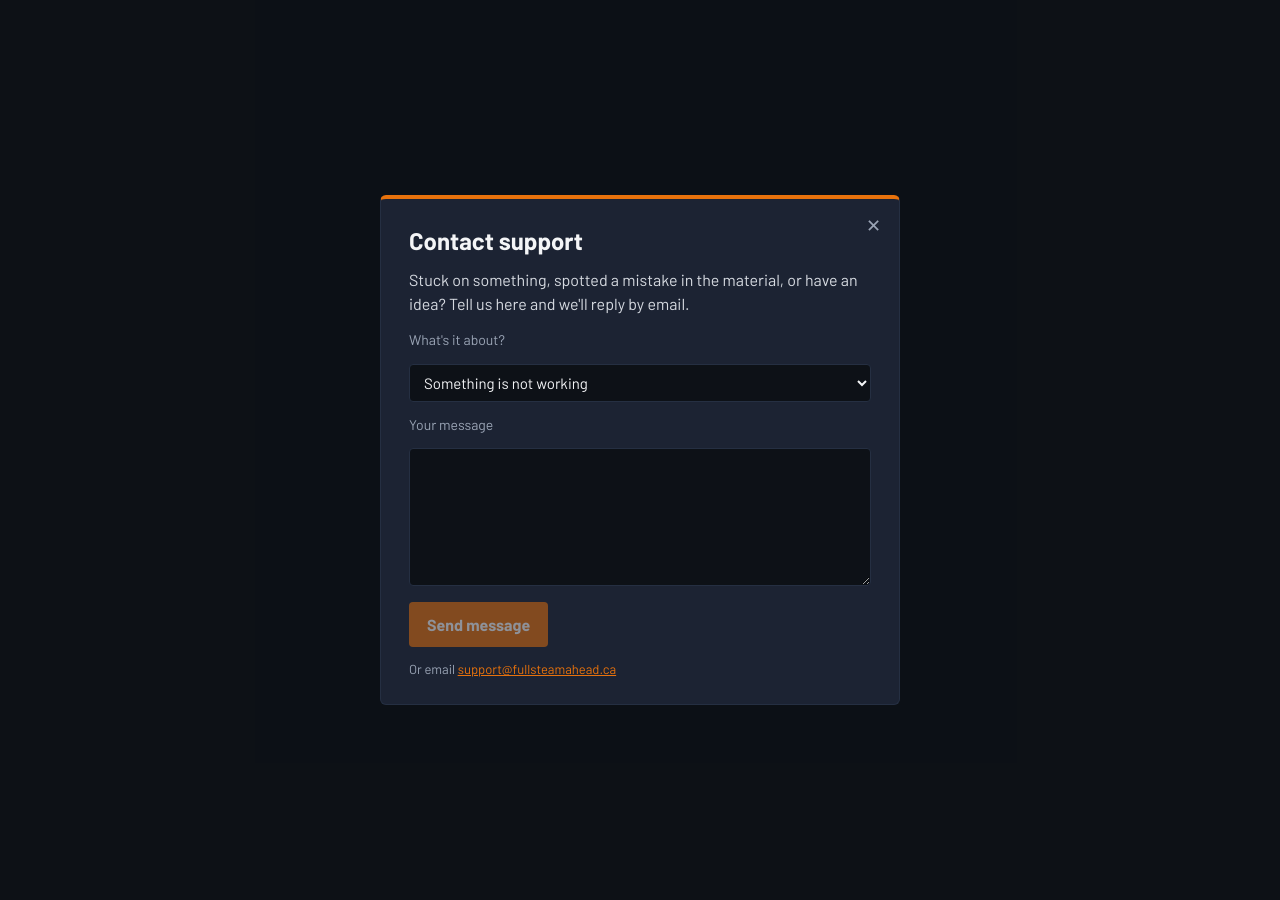
Test: ContactSupportModal › shows the server error and keeps the form
Type "hi" into the text box labelled "Your message" at (640, 517), box [409, 448, 871, 586]
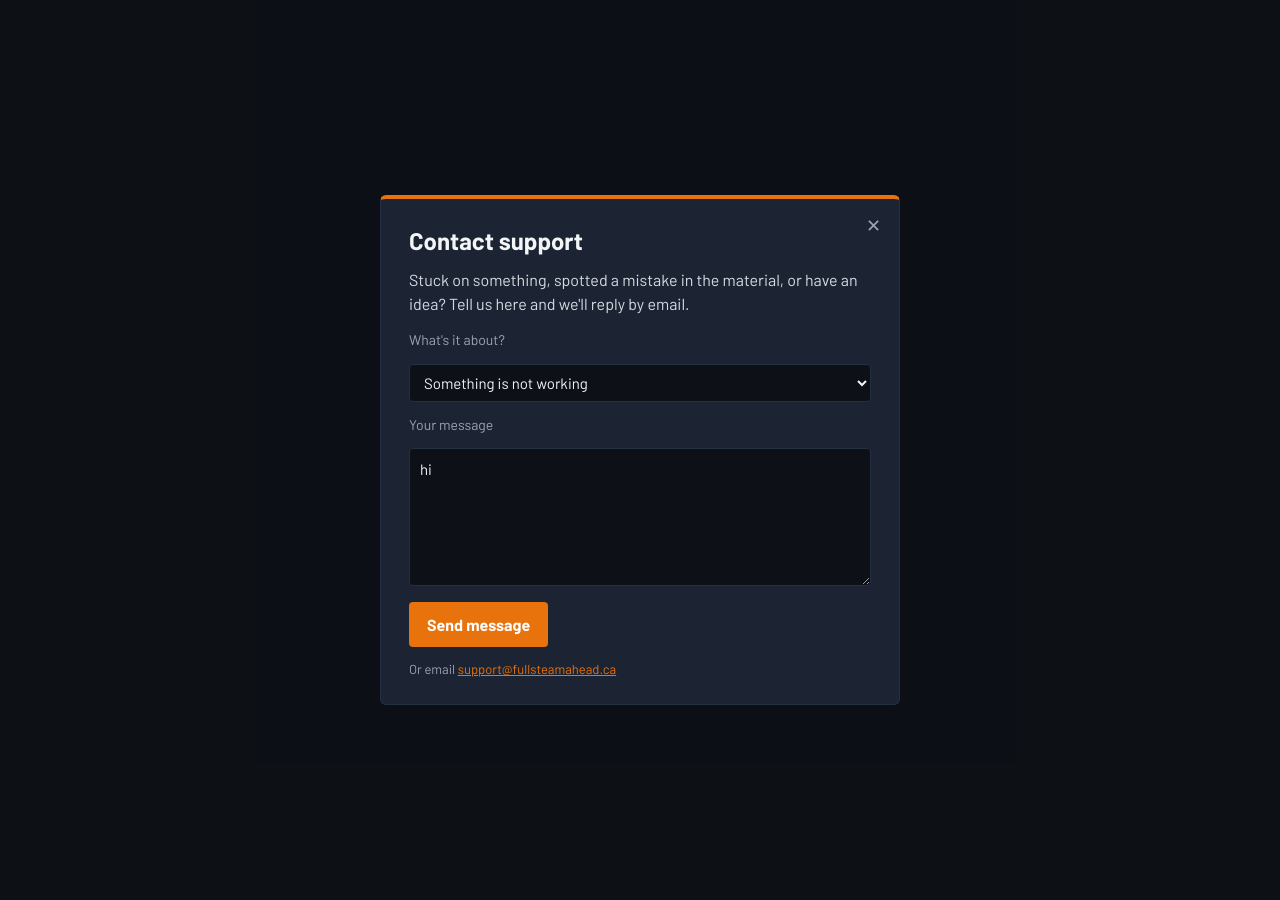
Click the button "Send message" at (479, 625), box [409, 602, 548, 648]
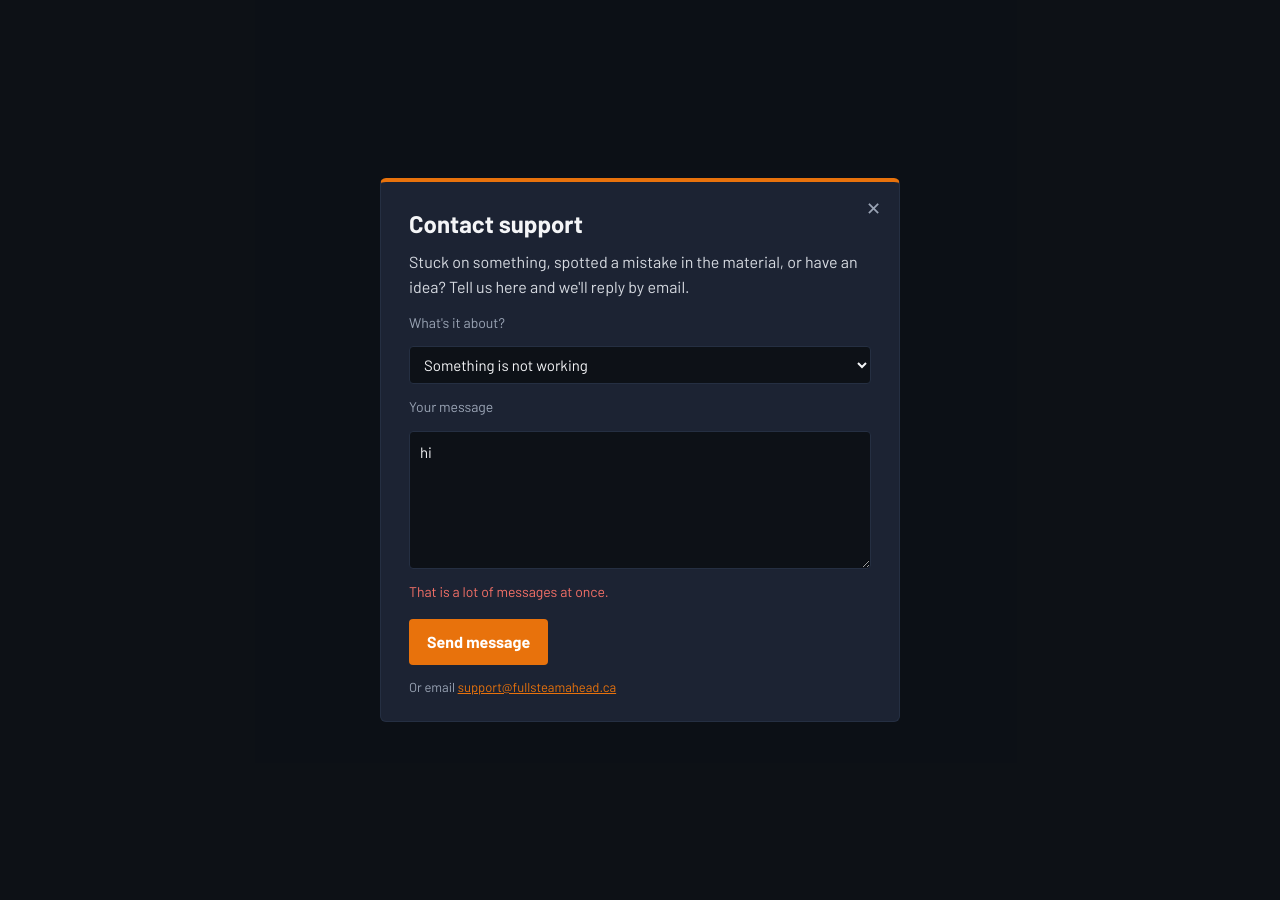
Expected: the text "That is a lot of messages at once." is shown, [409, 583, 608, 600]
